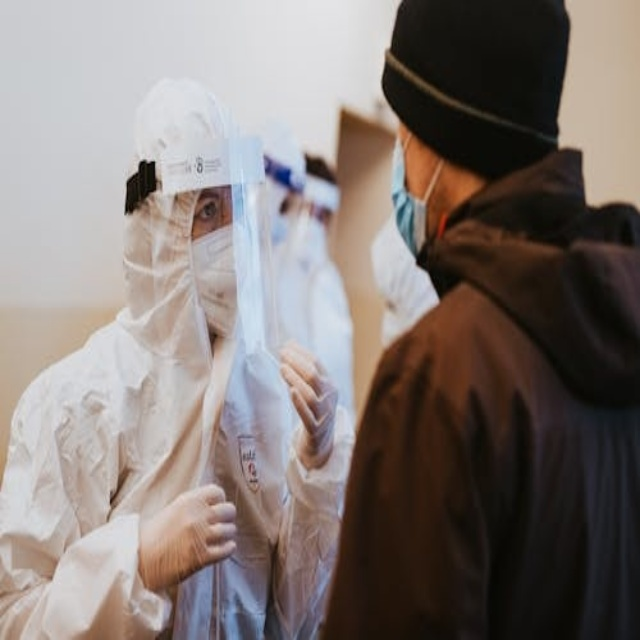Guantes: (137, 482, 237, 595), (278, 336, 340, 467)
Mascara: (191, 223, 256, 336), (388, 140, 435, 256)
Sin_gafas: (192, 188, 239, 229)
